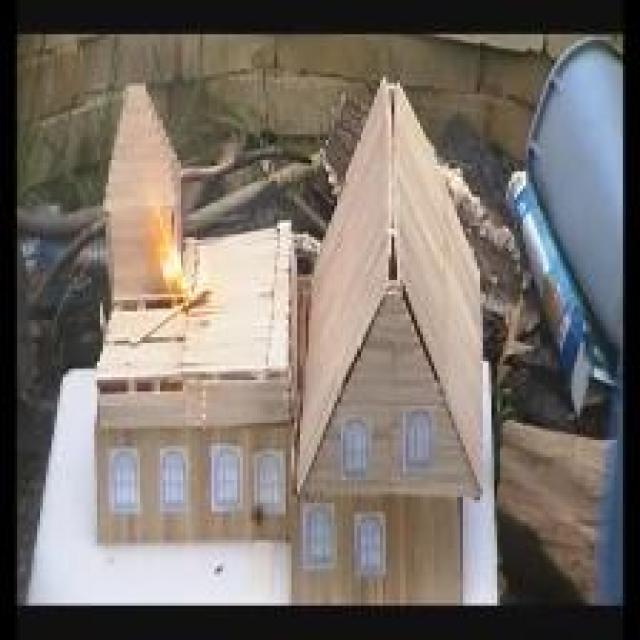Fire: (156, 202, 190, 298)
